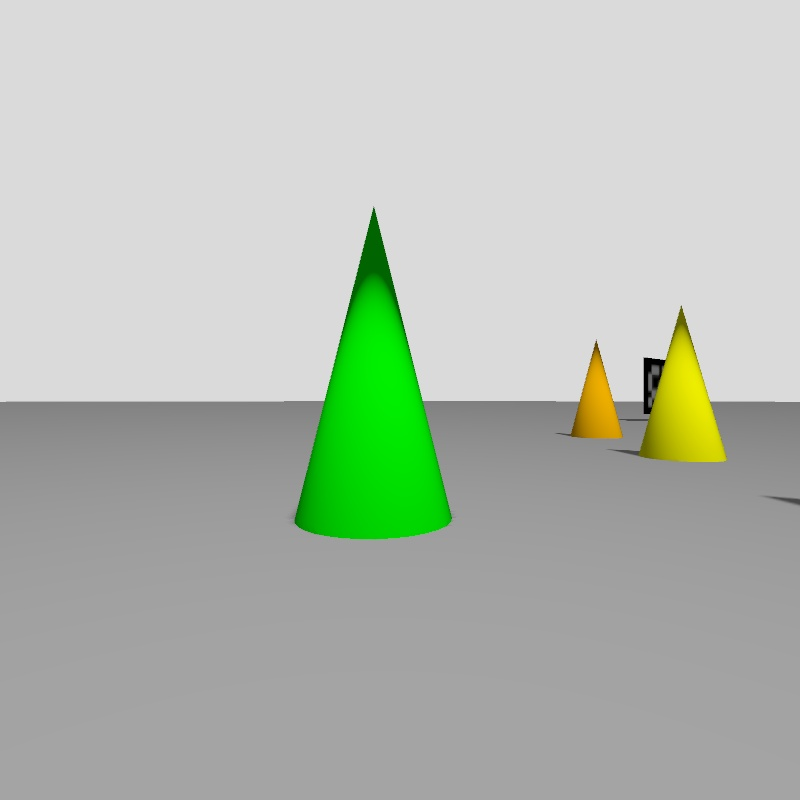Green_cone: (295, 209, 450, 537)
Orange_cone: (572, 342, 622, 437)
Yellow_cone: (639, 307, 726, 461)
